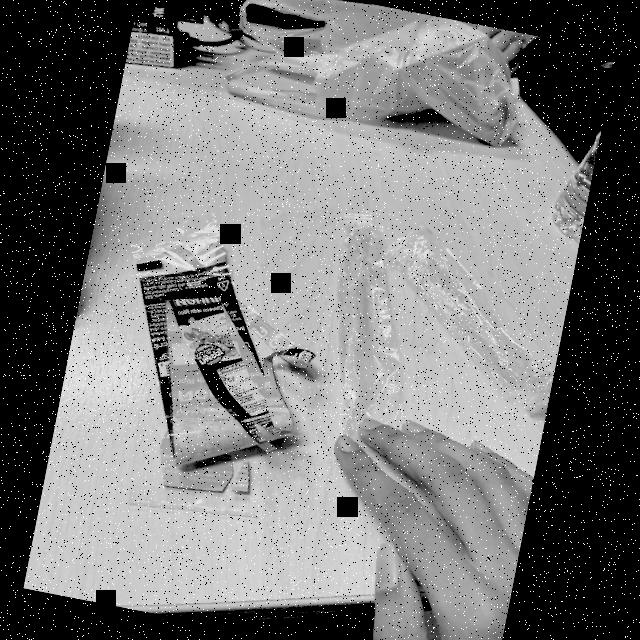scrap_plastic: (65, 186, 363, 549), (360, 214, 578, 420), (290, 199, 446, 448)
